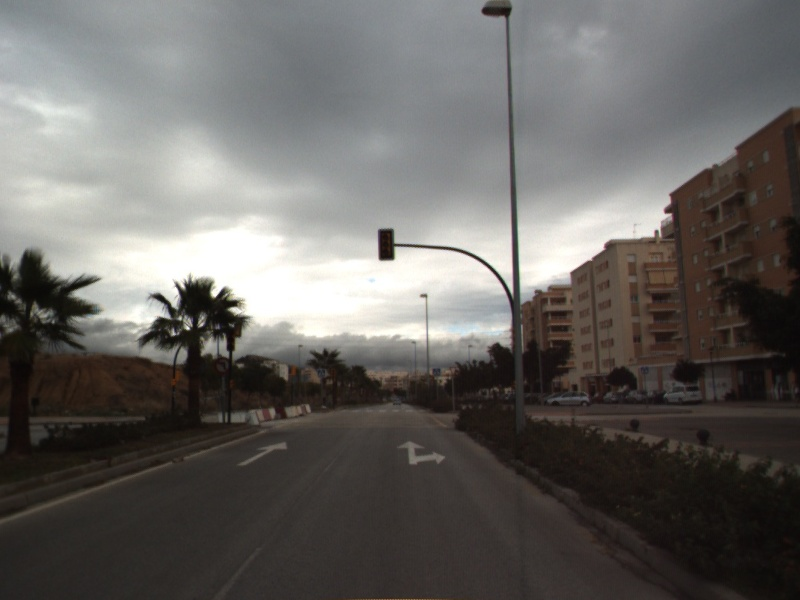STRAIGHT: (235, 440, 289, 467)
STRAIGHT_RIGHT: (395, 438, 447, 466)
